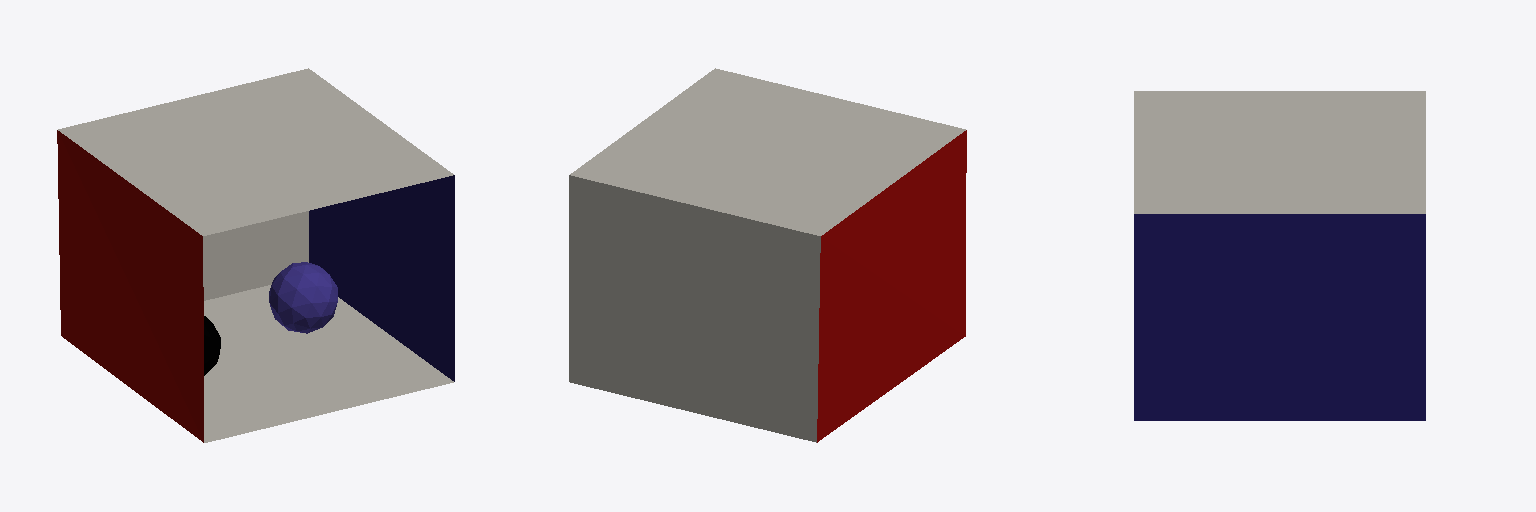
The model's file is CornellBox-Sphere-1352.obj.
The picture shows the model from 3 angles: view 1: azimuth 30°, elevation 25°; view 2: azimuth 150°, elevation 25°; view 3: azimuth 270°, elevation 25°; orthographic projection.
Visible parts, largest first — view 1: ceiling, leftWall, floor, rightWall, backWall, leftSphere, rightSphere; view 2: backWall, ceiling, leftWall; view 3: rightWall, ceiling.
Part boxes in pixels (left/top/right/bottom): ceiling: left=58, top=68, right=453, bottom=235; leftWall: left=57, top=130, right=203, bottom=442; floor: left=204, top=285, right=453, bottom=442; rightWall: left=309, top=175, right=454, bottom=381; backWall: left=203, top=211, right=308, bottom=300; leftSphere: left=269, top=262, right=337, bottom=333; rightSphere: left=204, top=316, right=220, bottom=375; backWall: left=569, top=175, right=820, bottom=442; ceiling: left=570, top=68, right=965, bottom=235; leftWall: left=817, top=130, right=966, bottom=442; rightWall: left=1134, top=214, right=1425, bottom=420; ceiling: left=1134, top=91, right=1425, bottom=213.
Bounding box in the file's own units: 2.02 × 1.59 × 2.03.